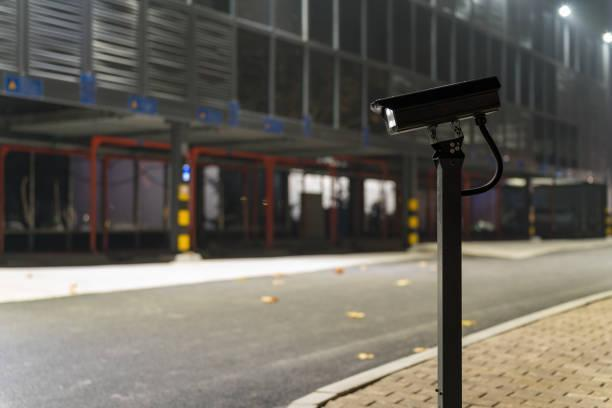camera: (364, 71, 523, 156)
